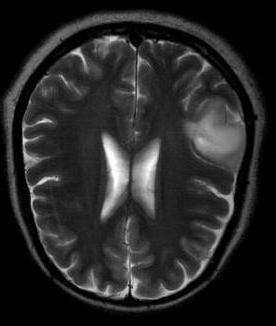Normal_Brain: (5, 4, 276, 326)
